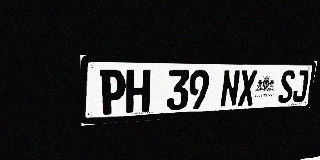3: (167, 70, 190, 111)
9: (188, 70, 210, 109)
H: (126, 69, 151, 113)
J: (292, 70, 309, 103)
N: (220, 70, 240, 107)
P: (100, 69, 126, 115)
S: (278, 70, 296, 104)
X: (237, 70, 257, 106)
